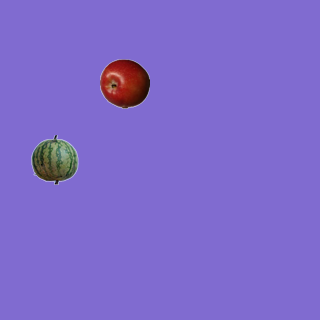Apple Braeburn: (99, 58, 149, 108)
Watermelon: (29, 134, 79, 184)
